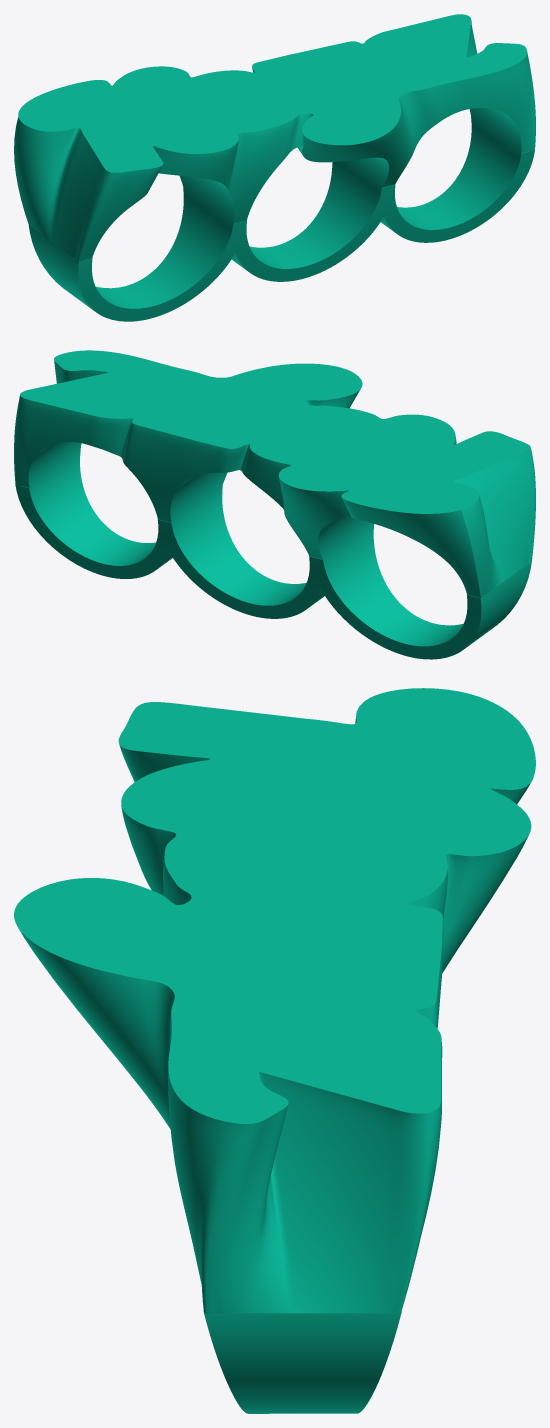
The picture shows the model from 3 angles, top to bottom: view 1: azimuth 30°, elevation 25°; view 2: azimuth 150°, elevation 25°; view 3: azimuth 270°, elevation 25°; orthographic projection. The views are drawn at different scales.
Visible parts, largest first — view 1: 2.3dm; view 2: 2.3dm; view 3: 2.3dm.
Boxes of the visible parts, x1,y1,x2,y2 form: 2.3dm: (14,14,535,321); 2.3dm: (14,350,535,659); 2.3dm: (14,688,535,1413).
Size of the model in its own units: 3.39 by 1.29 by 1.69.
